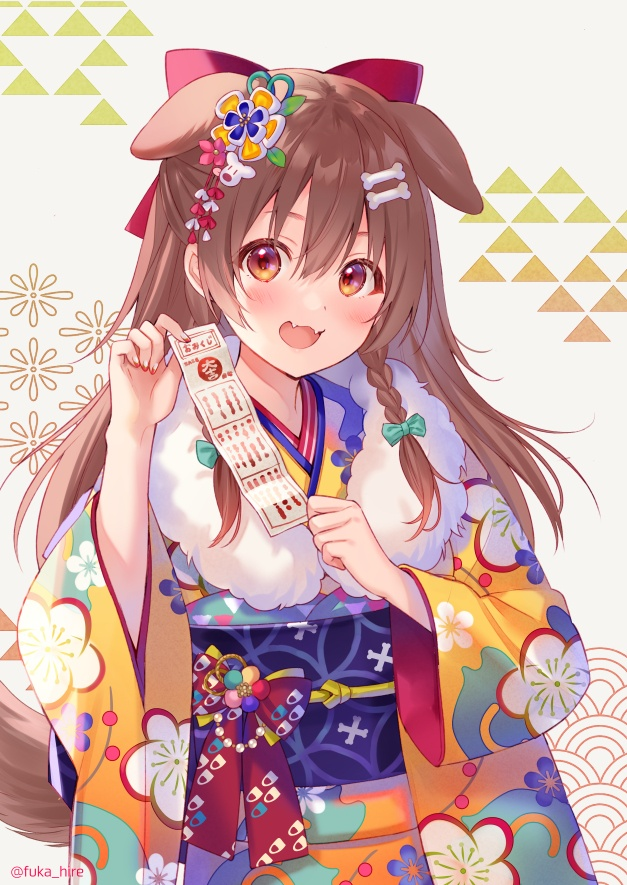纸片人正脸: (161, 59, 466, 393)
